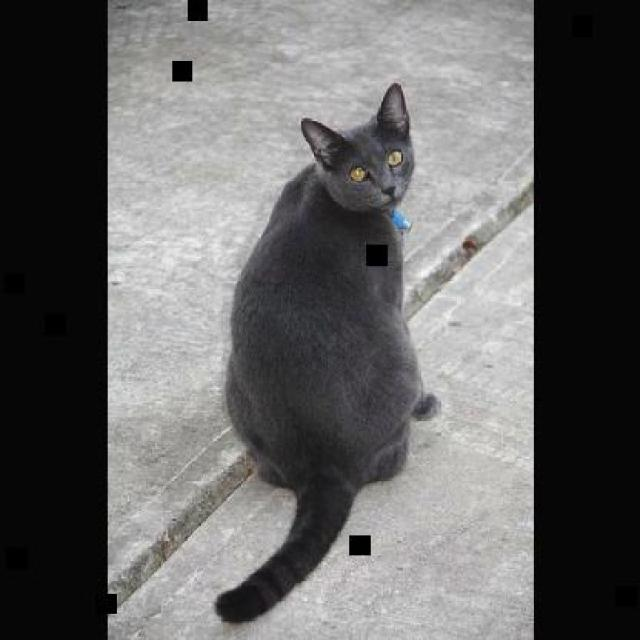unauthorized: (212, 80, 440, 625)
